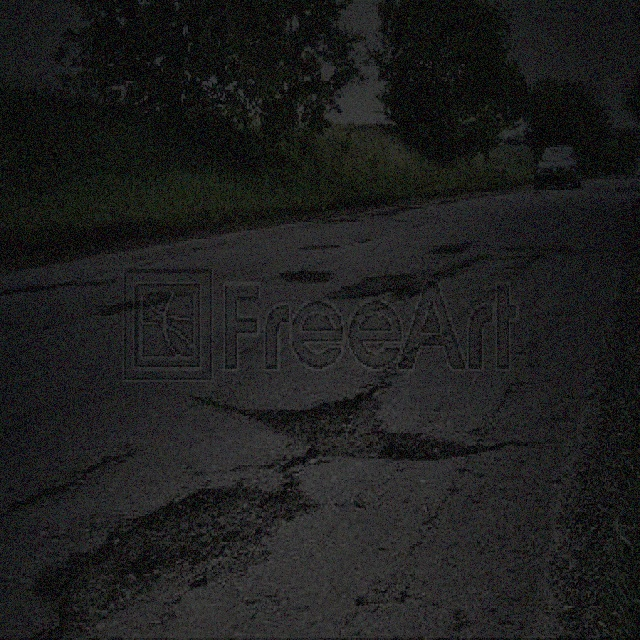pothole: (28, 476, 316, 638), (240, 388, 474, 459), (326, 271, 432, 303), (277, 264, 333, 282)
